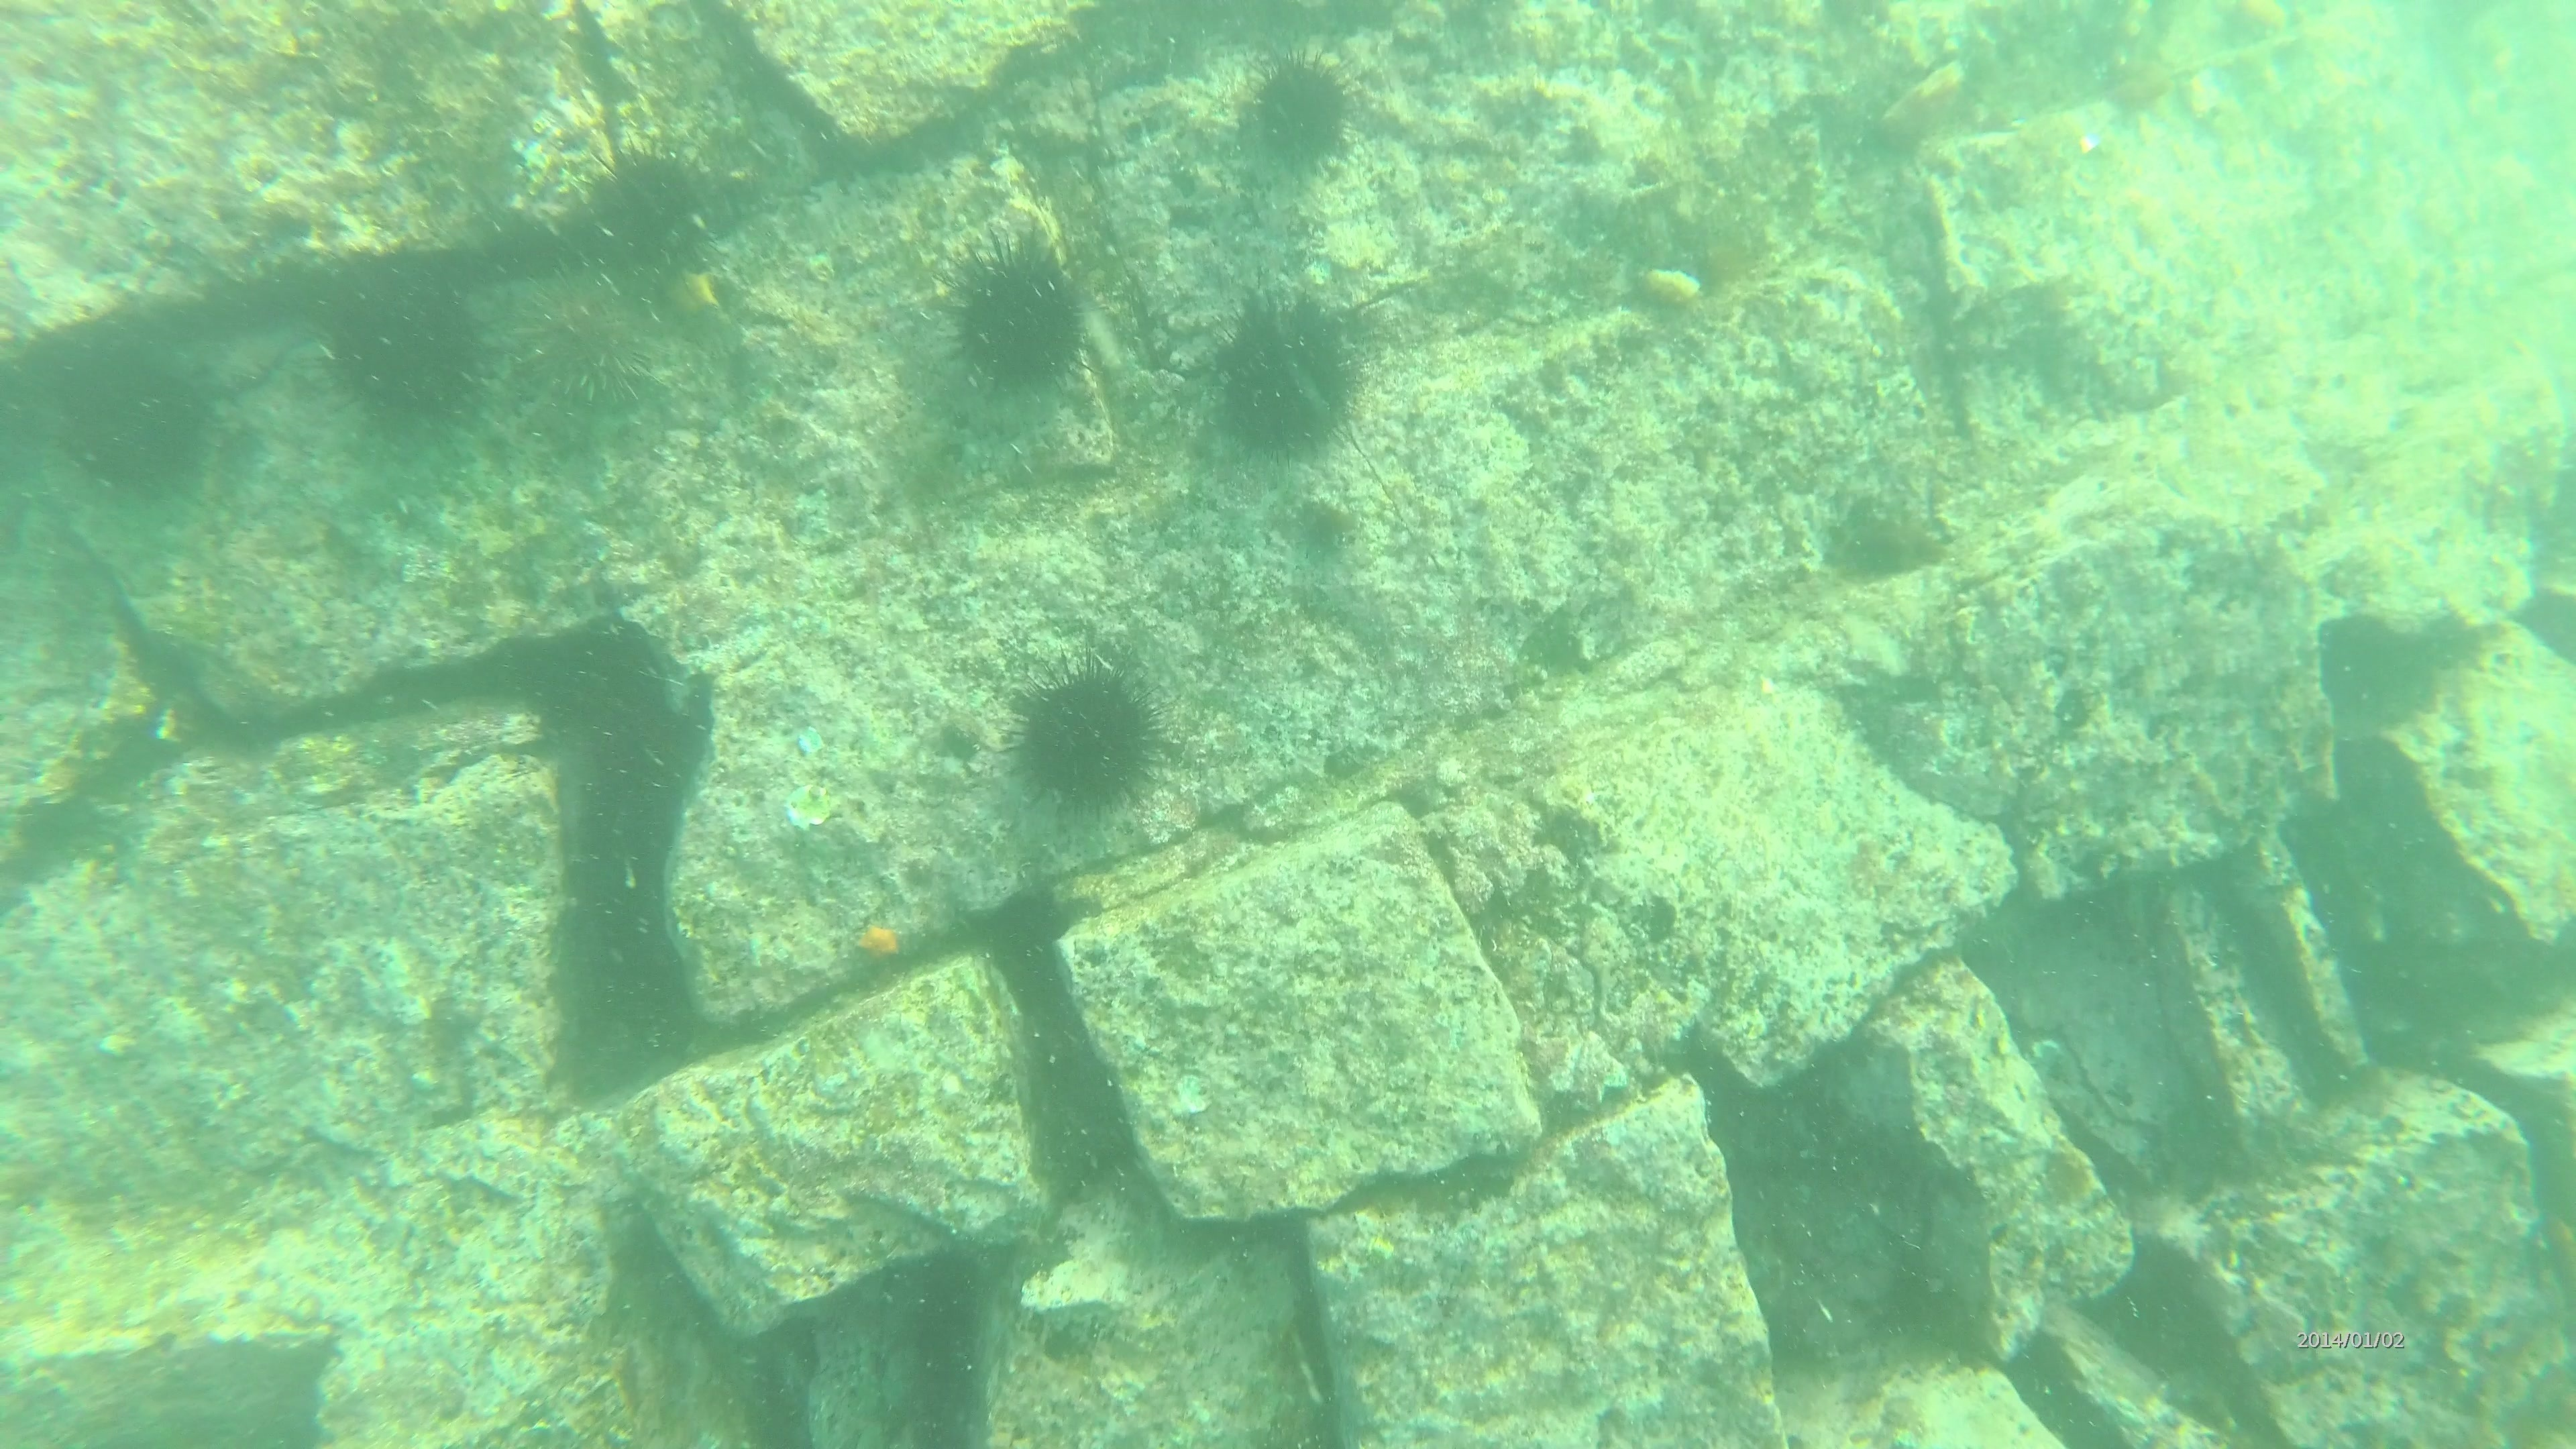echinus: (1200, 287, 1373, 467), (1000, 653, 1171, 824), (44, 336, 219, 502), (320, 272, 497, 435), (938, 232, 1097, 403), (506, 265, 667, 421), (573, 140, 722, 290), (1231, 48, 1362, 180), (2307, 607, 2429, 729)
starfish: (847, 908, 913, 970)
